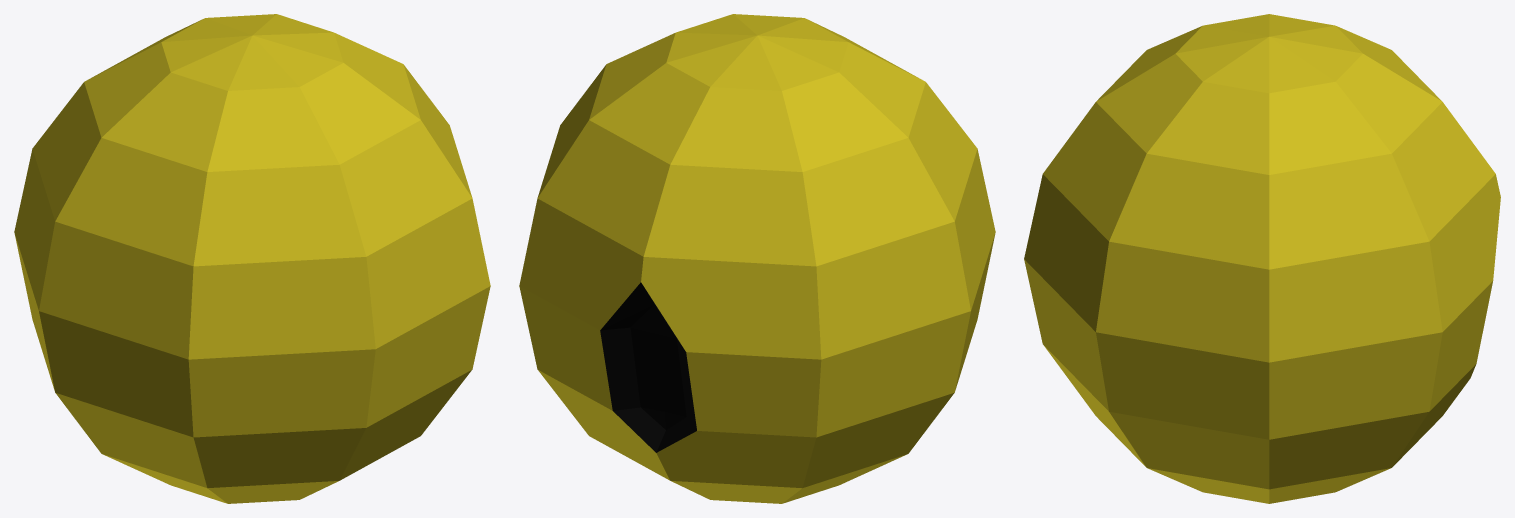
The model's file is cat_reye.obj.
3 views of the same model, side by side, from view 1: azimuth 30°, elevation 25°; view 2: azimuth 150°, elevation 25°; view 3: azimuth 270°, elevation 25° (orthographic).
Parts seen in each view (by area): view 1: reye_yellow; view 2: reye_yellow, reye_black; view 3: reye_yellow.
Boxes of the visible parts, x1,y1,x2,y2 form: reye_yellow: (14,14,490,503); reye_yellow: (519,14,995,503); reye_black: (600,282,696,452); reye_yellow: (1024,14,1500,503).
Size of the model in its own units: 0.6161 by 0.6161 by 0.599.
